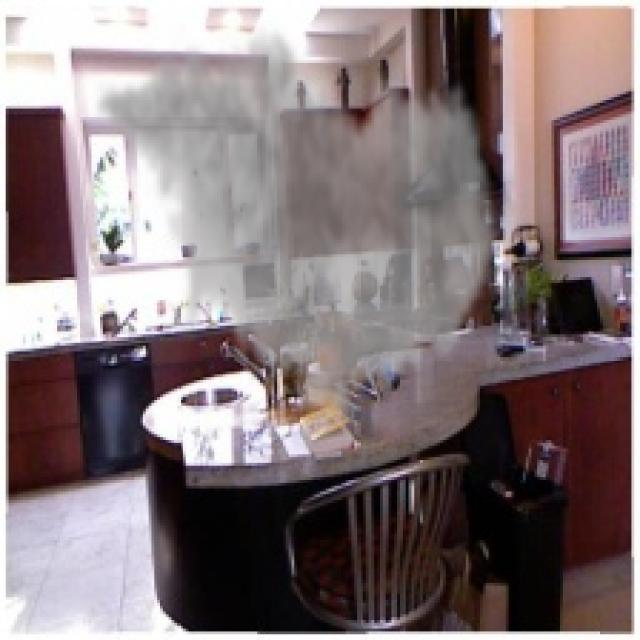Smoke: (91, 17, 503, 429)
